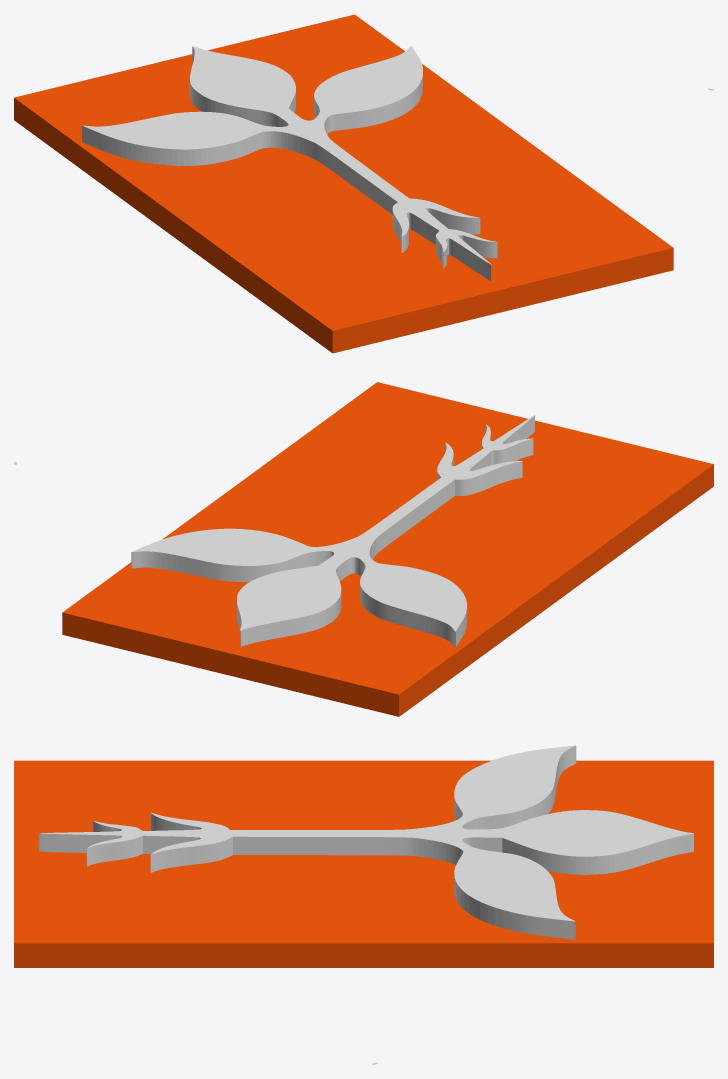
File: Rootsa.fbx
3 views of the same model, one above another, from view 1: azimuth 30°, elevation 25°; view 2: azimuth 150°, elevation 25°; view 3: azimuth 270°, elevation 25° (orthographic). The views are drawn at different scales.
Visible parts, largest first — view 1: path6329; view 2: path6329; view 3: path6329.
Part boxes in pixels (x1,y1,x2,y2): path6329: [14, 14, 673, 353]; path6329: [62, 382, 713, 716]; path6329: [14, 745, 713, 967].
Size of the model in its own units: 379 by 26 by 384.
